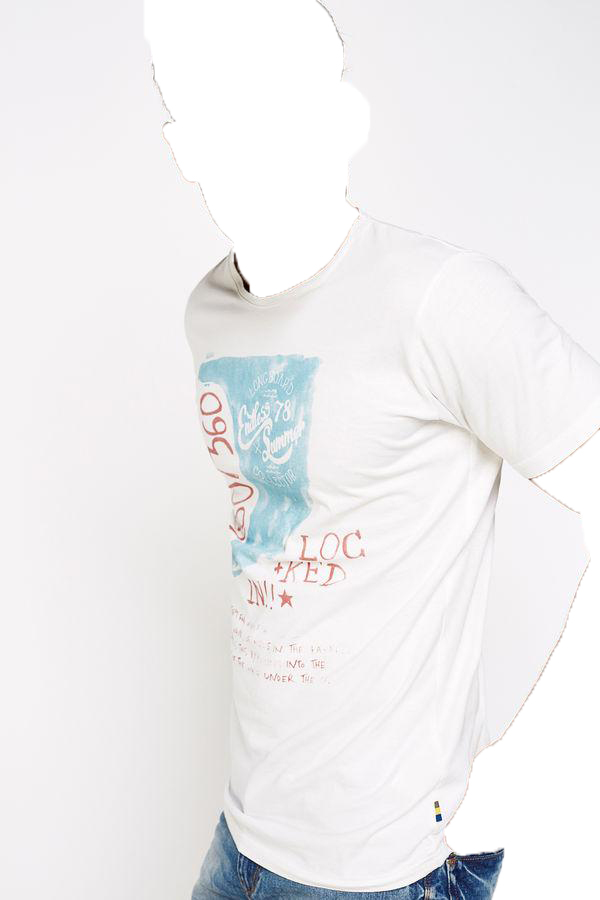teeshirt: (151, 214, 600, 887)
